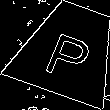P_N: (40, 20, 98, 80)
